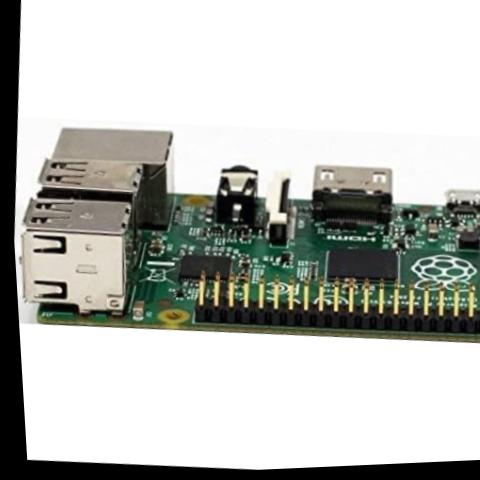Raspberry-Pi-1-Model-B-: (6, 102, 480, 364)
